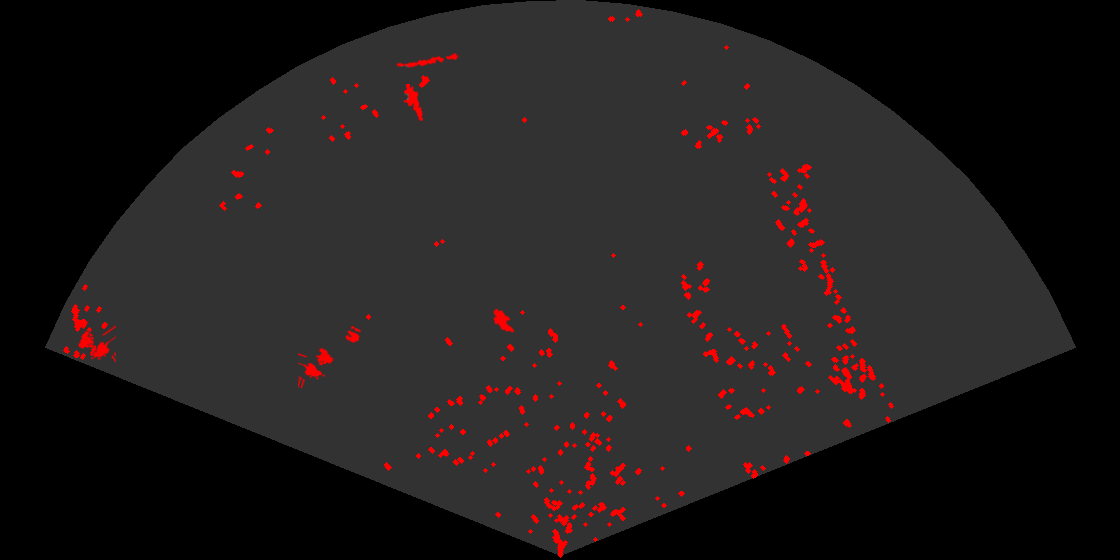AUV: (491, 307, 516, 334)
ball: (344, 324, 363, 345)
cage: (76, 323, 116, 364), (298, 346, 335, 388)
chain: (394, 52, 460, 70)
frogman: (402, 84, 425, 121)
